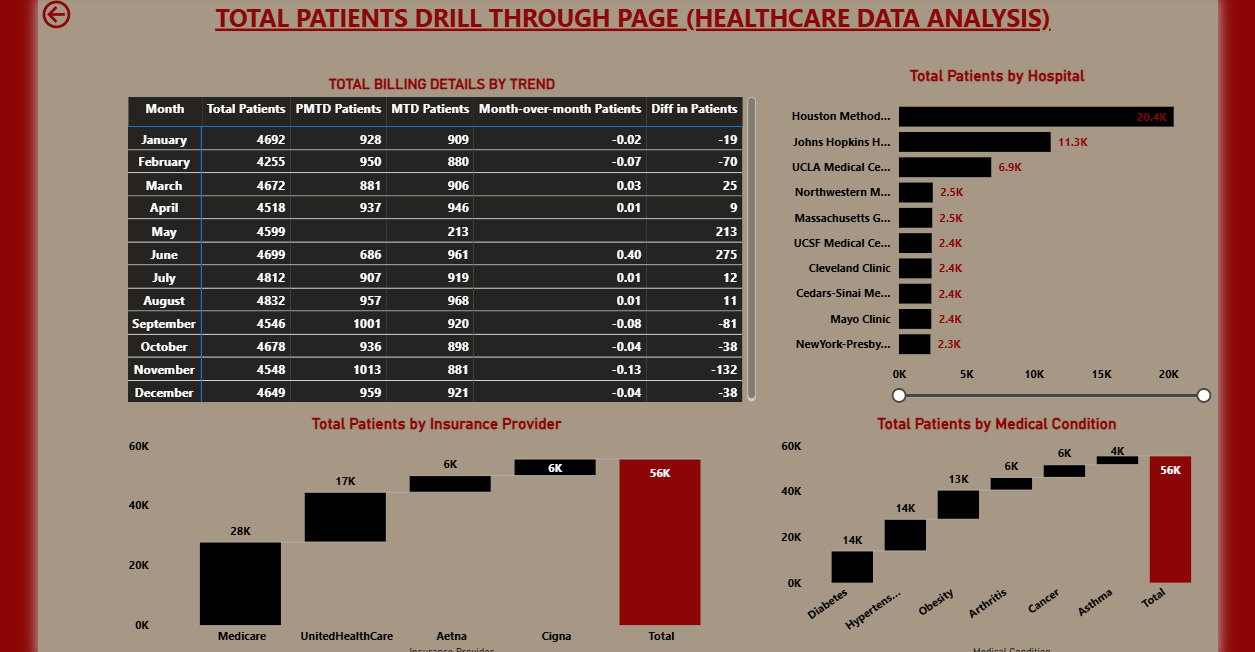

The dashboard page shown, as its layout file describes it:
{"tool":"powerbi","page":{"name":"TOTAL PATIENTS DRILL THROUGH PAGE","canvas":[1280,720],"ordinal":2},"visuals":[{"type":"textbox","box":[9.6,0,1270.6,51],"z":0},{"type":"pivotTable","title":"TOTAL BILLING DETAILS BY TREND","fields":{"Rows":["Admission_Date.Date.Variation.Date Hierarchy.Month"],"Values":["MEASURE TABLE.Total Patients","MEASURE TABLE.PMTD Patients","MEASURE TABLE.MTD Patients","MEASURE TABLE.Month-over-month Patients","MEASURE TABLE.Diff in Patients"]},"box":[92.3,85.4,690.4,358.3],"z":1000},{"type":"clusteredBarChart","fields":{"Category":["Data.Hospital"],"Y":["MEASURE TABLE.Total Patients"]},"box":[800.7,75.8,479.6,368],"z":2000},{"type":"waterfallChart","fields":{"Category":["Data.Insurance Provider"],"Y":["MEASURE TABLE.Total Patients"]},"box":[92,453,679,267],"z":3000},{"type":"waterfallChart","fields":{"Category":["Data.Medical Condition"],"Y":["MEASURE TABLE.Total Patients"]},"box":[801,453,479,267],"z":4000},{"type":"actionButton","box":[0,0,100,40],"z":5000}]}

Visuals, with their boxes on the page's 1280x720 design canvas (x1, y1, x2, y2). These are canvas units, not pixel positions in the 1255x652 screenshot, which may show the page scaled, cropped or inside an application window:
textbox: 10, 0, 1280, 51
"TOTAL BILLING DETAILS BY TREND" pivotTable: 92, 85, 783, 444
clusteredBarChart - Data.Hospital x MEASURE TABLE.Total Patients: 801, 76, 1280, 444
waterfallChart - Data.Insurance Provider x MEASURE TABLE.Total Patients: 92, 453, 771, 720
waterfallChart - Data.Medical Condition x MEASURE TABLE.Total Patients: 801, 453, 1280, 720
actionButton: 0, 0, 100, 40
